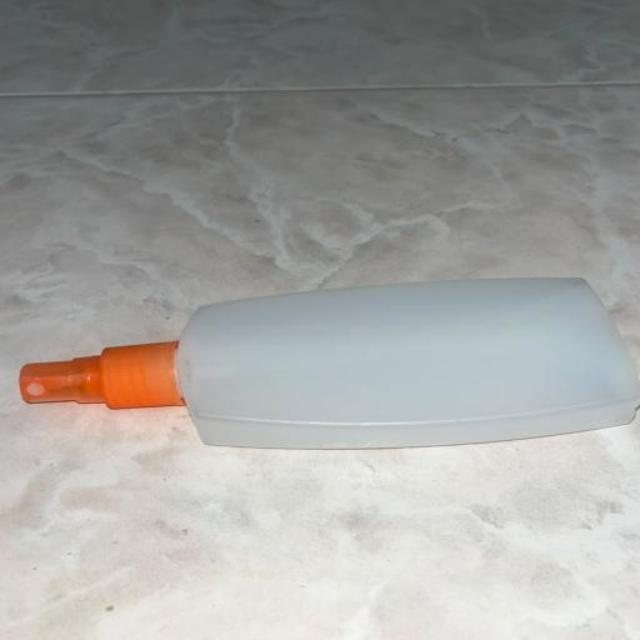HDPE: (15, 238, 640, 586)
